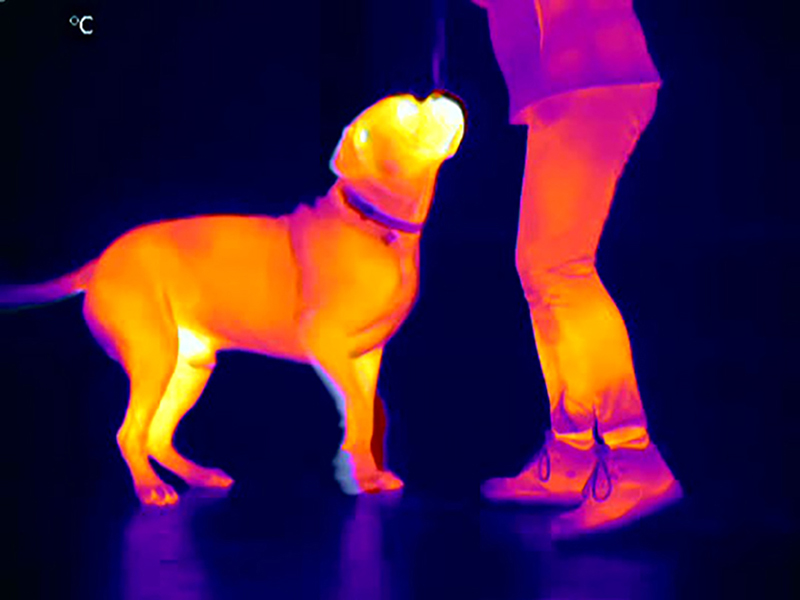cane da caccia: (90, 88, 470, 498)
